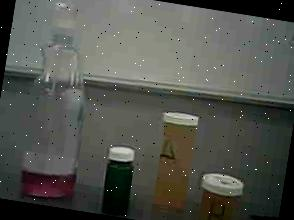Bottle A: (141, 101, 205, 220)
Bottle B: (188, 158, 252, 220)
Bottle C: (94, 135, 144, 218)
hazard: (1, 0, 115, 211)
